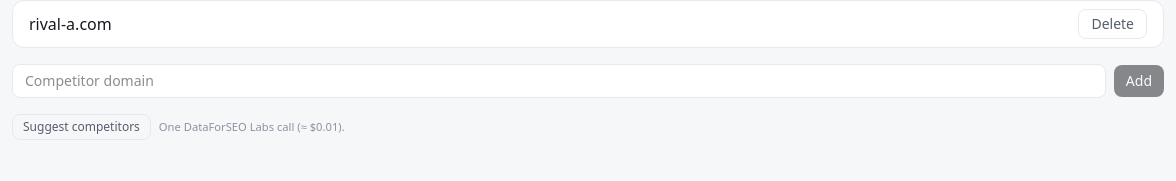
Scenario: CompetitorManager › shows a generic inline error (not the cap message) on a non-409 failure
Type "rival-b.com" into the field with placeholder "Competitor domain" at (559, 81), box [12,64,1106,98]
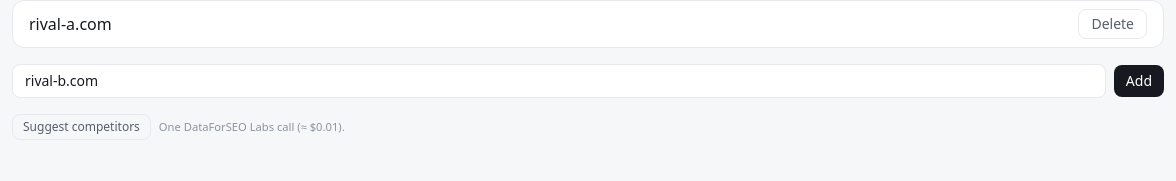
Click the button "Add" at (1139, 81), box [1114,65,1164,97]
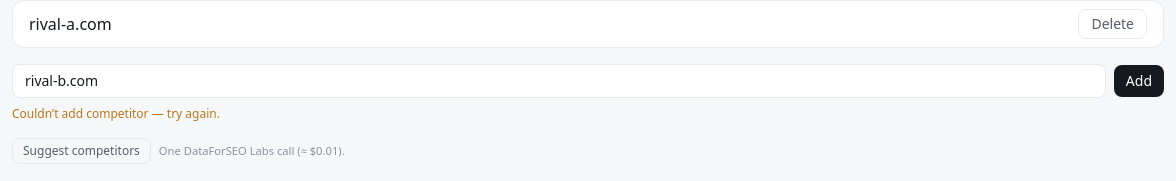
Result: the text "Couldn’t add competitor — try again." is shown at [12,105,220,122]
